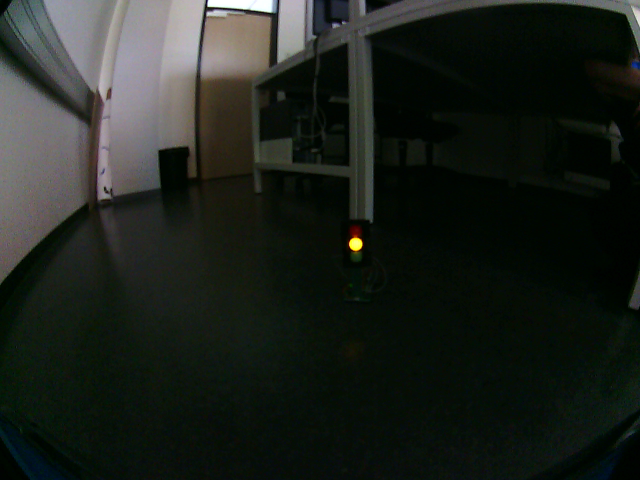yellow trafficlight: (344, 223, 368, 266)
